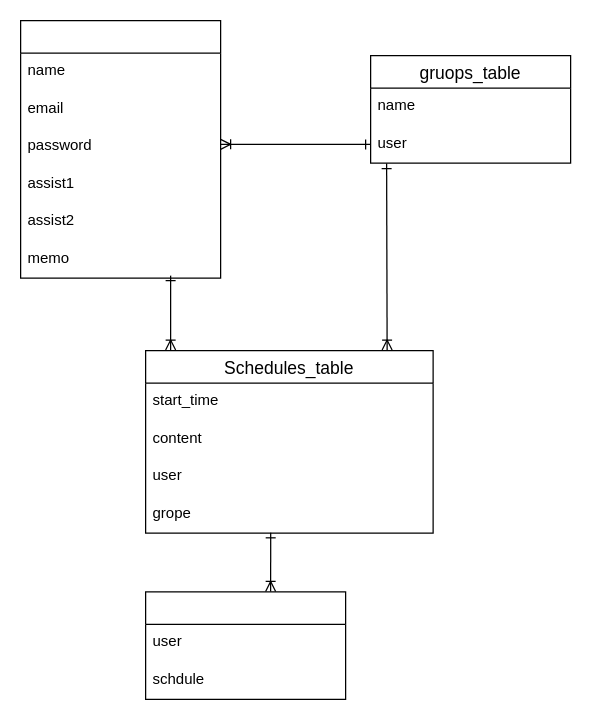
The diagram is 591 pixels wide and 720 high, and some of its shapes have lost their labels. The shapes that lost their labels are listed below. From the top down, each one's box as (x1, y1, x2, y2) in pixels, then its label:
(19, 19, 221, 278): users_table
(144, 591, 346, 699): need_assists_table
